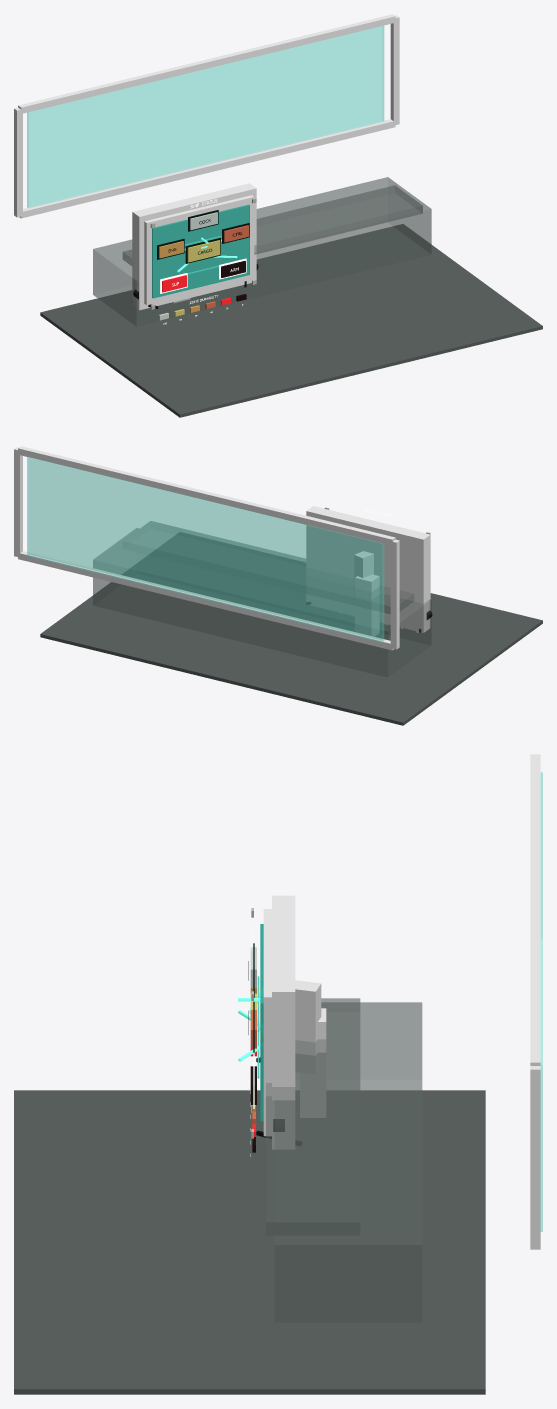
File: ck_map05.glb
3 renders of one model, top to bottom at view 1: azimuth 30°, elevation 25°; view 2: azimuth 150°, elevation 25°; view 3: azimuth 270°, elevation 25°, orthographic. The views are drawn at different scales.
Parts seen in each view (by area): view 1: player clearance floor proxy, front panoramic screen proxy, approved console body ghost, approved console top ghost, recessed green glass map screen, front screen upper frame proxy, front screen lower frame proxy, armored map panel back plate, armored map panel raised frame, front screen right frame proxy, front screen left frame proxy, cargo room durability color plate front; view 2: player clearance floor proxy, front panoramic screen proxy, approved console body ghost, armored map panel back plate, approved console top ghost, front screen upper frame proxy, front screen lower frame proxy, left lower console mount bracket, front screen left frame proxy, front screen right frame proxy, angled rear support arm; view 3: player clearance floor proxy, approved console body ghost, approved console top ghost, armored map panel back plate, front screen upper frame proxy, angled rear support arm, armored map panel raised frame, front screen right frame proxy, left lower console mount bracket, front panoramic screen proxy, recessed green glass map screen.
Boxes of the visible parts, x1,y1,x2,y2 form: player clearance floor proxy: (40, 224, 542, 417); front panoramic screen proxy: (27, 25, 384, 207); approved console body ghost: (93, 177, 431, 326); approved console top ghost: (122, 185, 422, 265); recessed green glass map screen: (152, 204, 249, 298); front screen upper frame proxy: (18, 14, 395, 113); front screen lower frame proxy: (19, 119, 395, 218); armored map panel back plate: (132, 183, 256, 310); armored map panel raised frame: (144, 195, 254, 305); front screen right frame proxy: (390, 15, 399, 124); front screen left frame proxy: (14, 107, 22, 217); cargo room durability color plate front: (187, 240, 220, 262); player clearance floor proxy: (40, 532, 542, 725); front panoramic screen proxy: (27, 457, 384, 642); approved console body ghost: (93, 528, 431, 677); armored map panel back plate: (306, 506, 430, 632); approved console top ghost: (123, 521, 413, 613); front screen upper frame proxy: (18, 446, 395, 545); front screen lower frame proxy: (18, 551, 393, 650); left lower console mount bracket: (355, 574, 379, 636); front screen left frame proxy: (390, 539, 399, 649); front screen right frame proxy: (14, 447, 22, 557); angled rear support arm: (354, 551, 373, 592); player clearance floor proxy: (14, 1090, 485, 1394); approved console body ghost: (274, 1002, 422, 1322); approved console top ghost: (266, 998, 360, 1235); armored map panel back plate: (272, 895, 295, 1149); front screen upper frame proxy: (530, 754, 540, 1065); angled rear support arm: (295, 980, 321, 1073); armored map panel raised frame: (263, 909, 271, 1136); front screen right frame proxy: (530, 1066, 540, 1249); left lower console mount bracket: (300, 1008, 326, 1117); front panoramic screen proxy: (540, 772, 542, 1231); recessed green glass map screen: (260, 924, 263, 1121).
Size of the model in its own units: 5.06 by 2.52 by 3.59.
